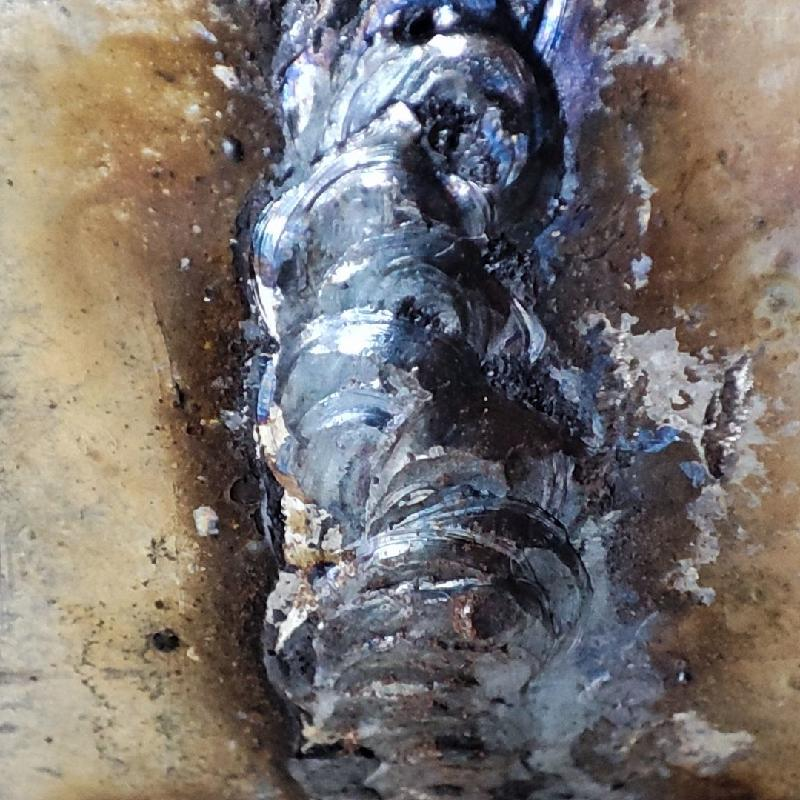Surface_pores: (416, 95, 473, 173)
